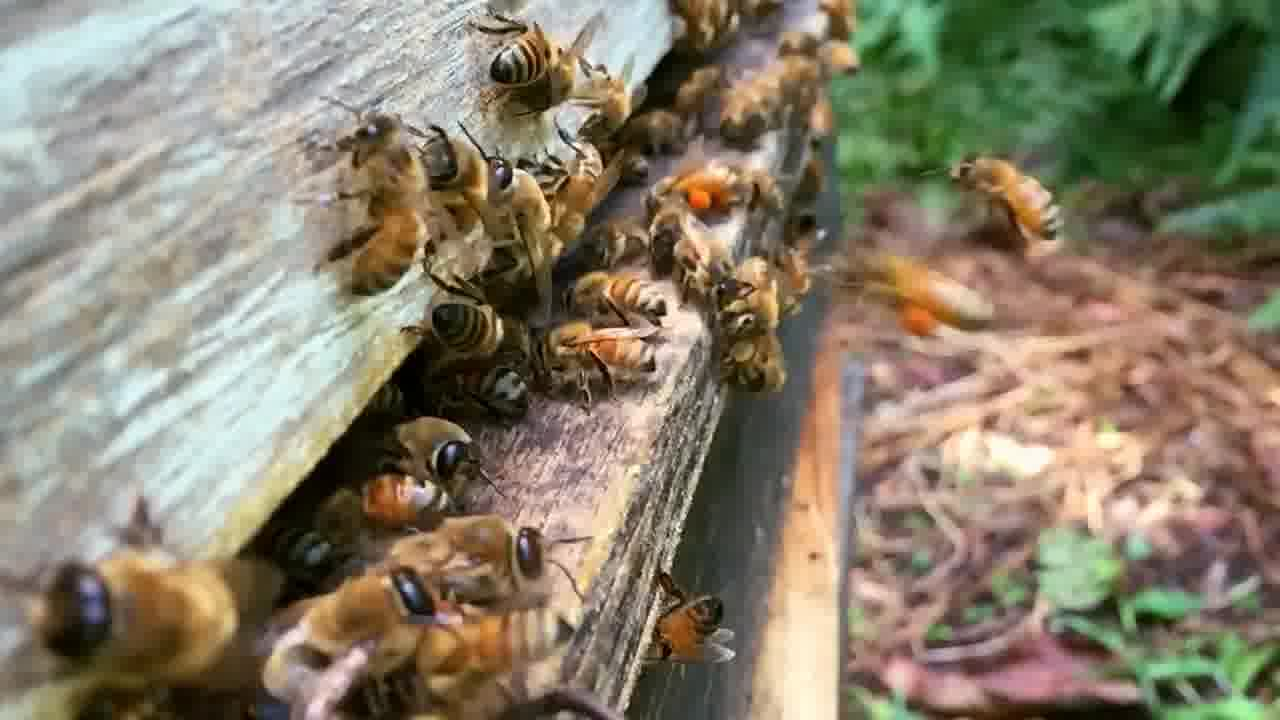pollen: (854, 238, 983, 349), (654, 164, 747, 218)
